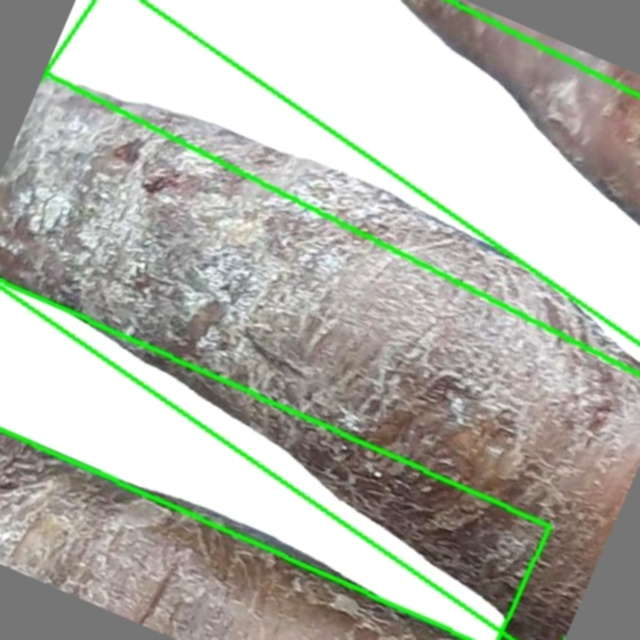Eczema: (0, 0, 639, 639), (45, 0, 639, 374), (0, 282, 549, 639)
